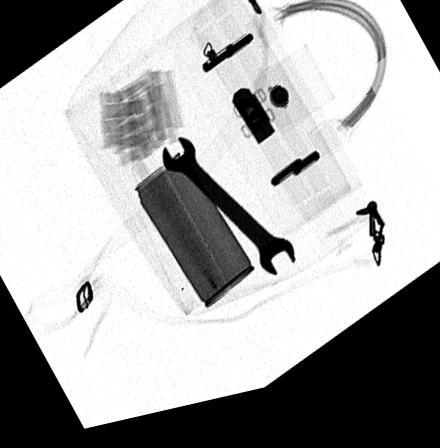Wrench: (160, 145, 293, 289)
